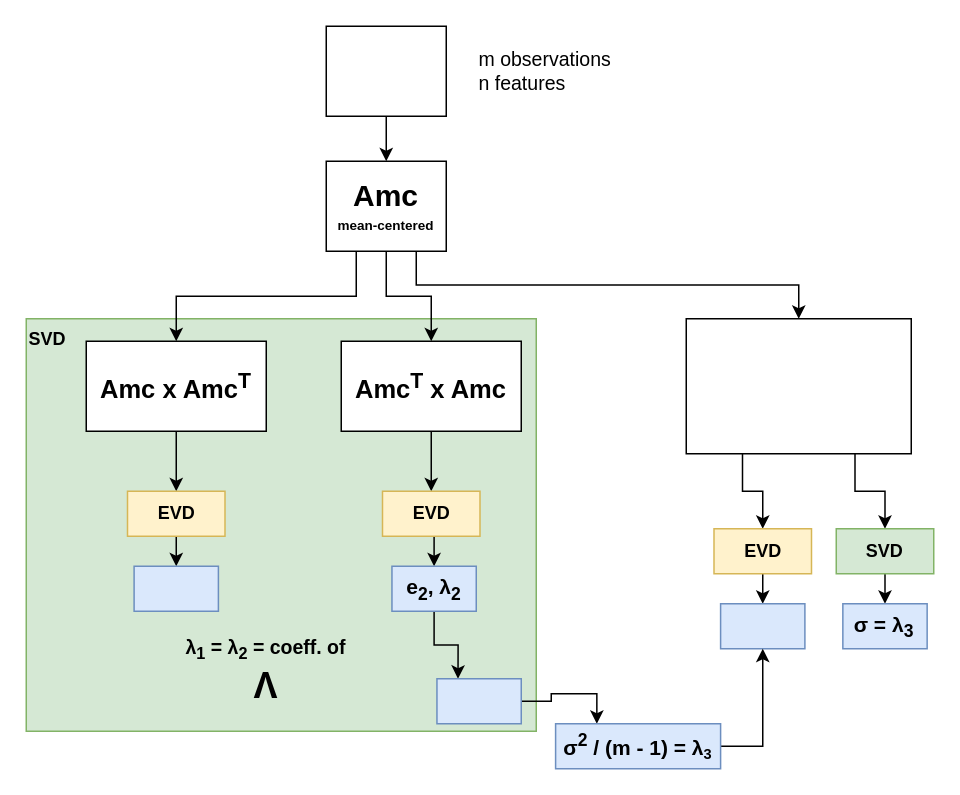
Image size: 960x795. Some labels were removed from this diagram. The centre of each missing label's shape, as x and y in pixels:
A mxn: [385,70]
Covariance (Amc T x Amc) / (m - 1): [798,385]
e 1 , λ 1: [175,588]
e 3 , λ 3: [762,625]
σ = √λ 2: [478,700]
